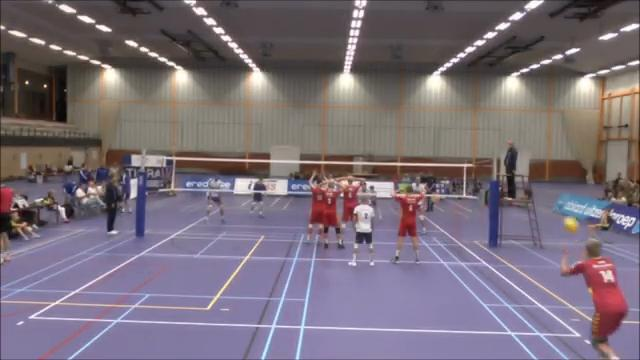Player: (561, 238, 627, 359), (392, 189, 424, 263), (349, 197, 374, 265), (321, 178, 344, 248), (337, 176, 364, 229), (307, 171, 323, 241), (206, 178, 224, 222), (250, 178, 266, 217), (417, 197, 426, 233), (368, 185, 376, 208)
Serve: (555, 234, 627, 359)
ball: (562, 214, 579, 232)
